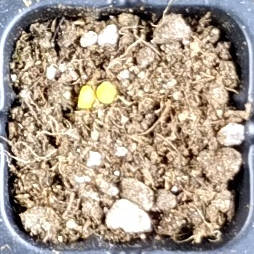pepper seed: (36, 28, 155, 133), (28, 30, 125, 140)
